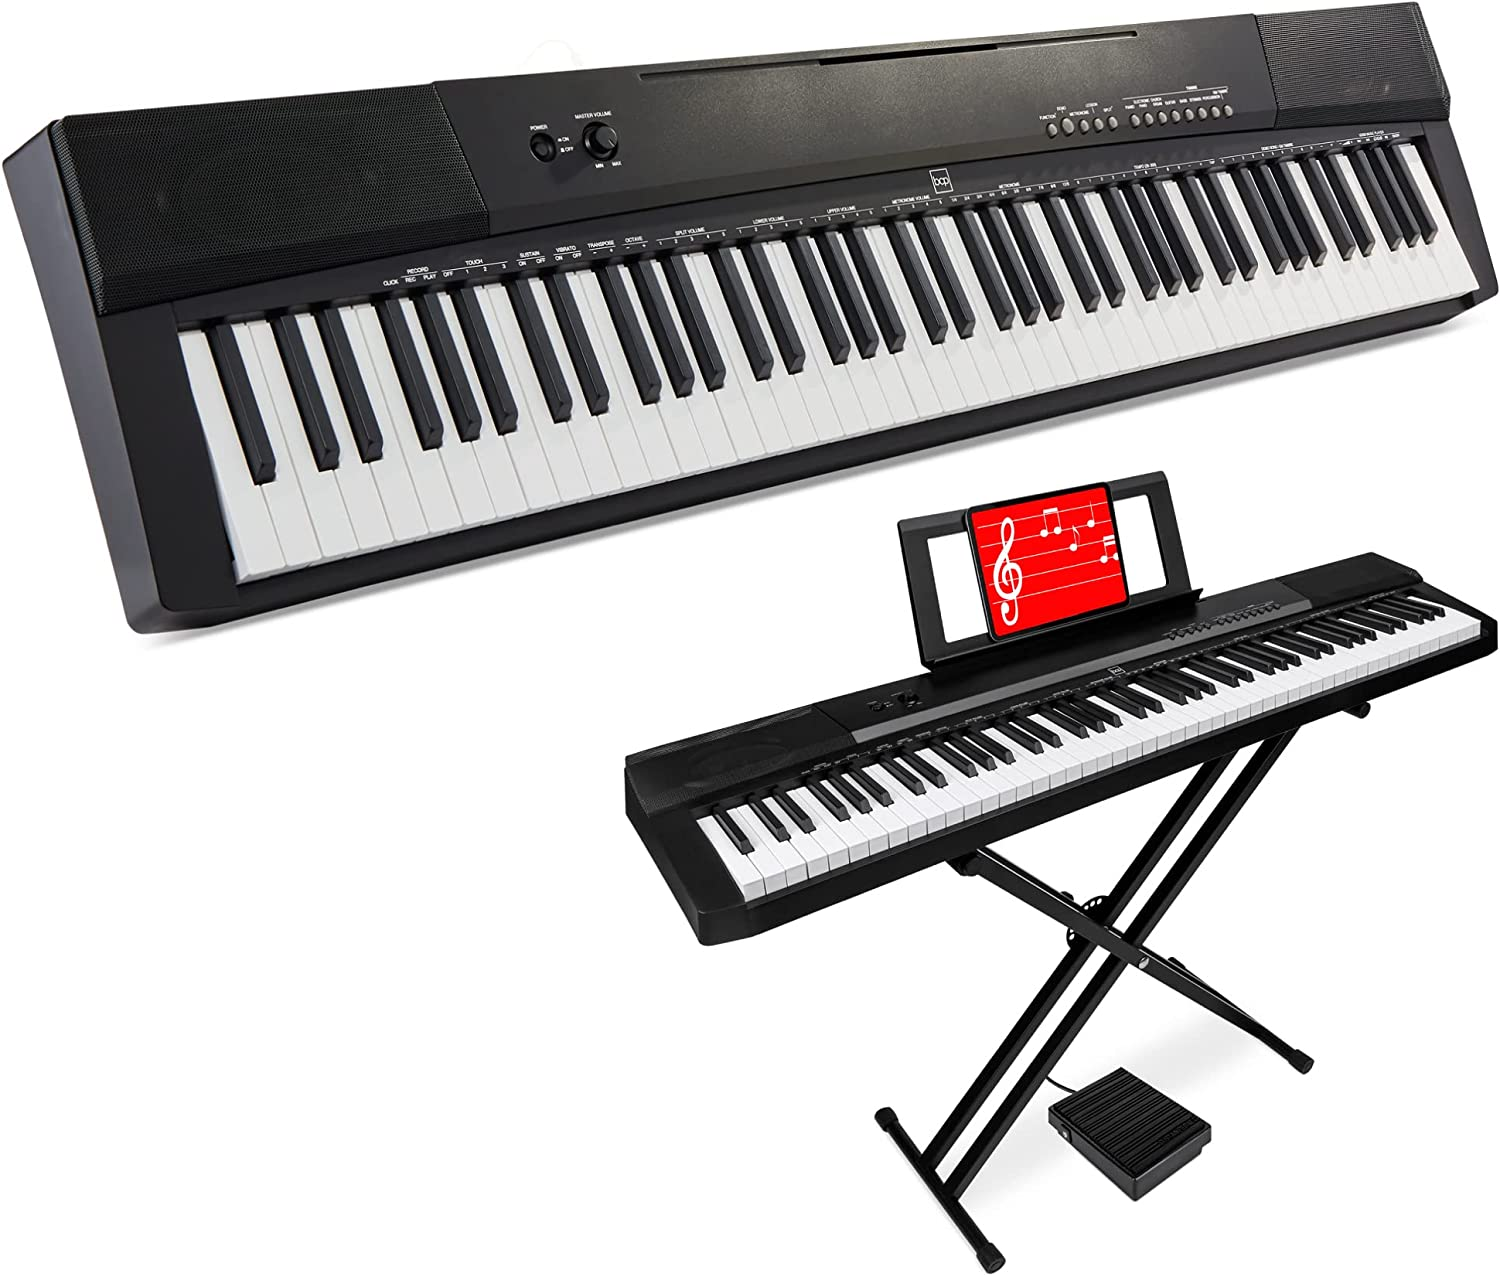piano: (1, 3, 1499, 642), (618, 454, 1500, 1277)
